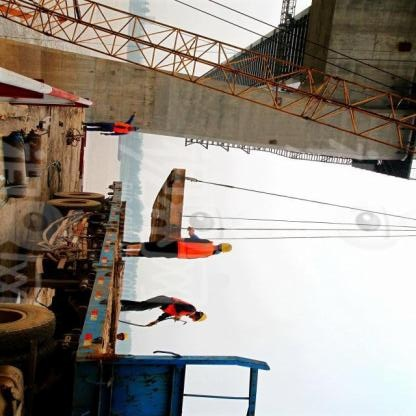blue: (136, 125, 143, 133)
vest: (173, 236, 220, 261), (158, 298, 198, 319), (112, 121, 134, 134)
yellow: (191, 311, 209, 325), (217, 241, 235, 254)
